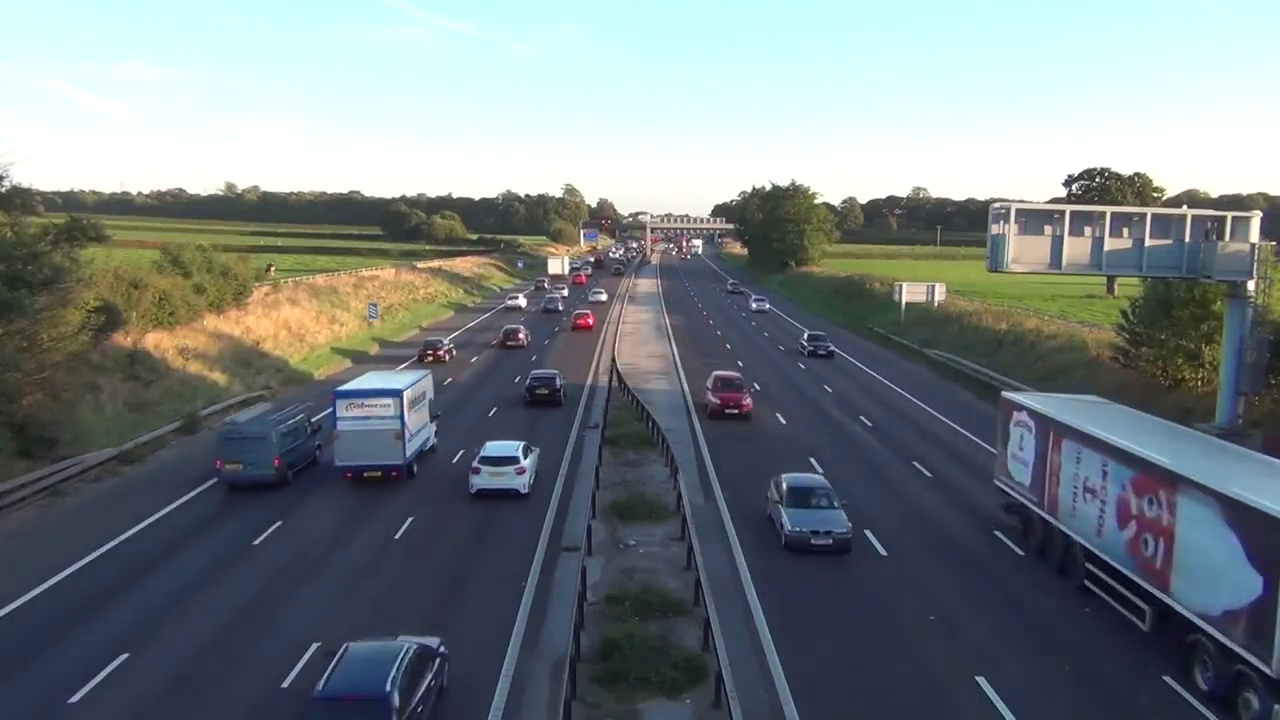bus: (315, 635, 450, 720), (763, 473, 853, 555), (465, 439, 539, 496), (705, 366, 754, 419), (523, 368, 566, 405), (796, 328, 834, 358), (418, 338, 459, 363), (502, 324, 530, 346), (571, 311, 594, 331), (542, 295, 565, 313), (749, 294, 770, 313), (587, 288, 609, 304), (724, 276, 744, 293), (503, 295, 527, 308)
car: (994, 391, 1280, 720), (333, 369, 441, 482), (216, 402, 323, 488)
